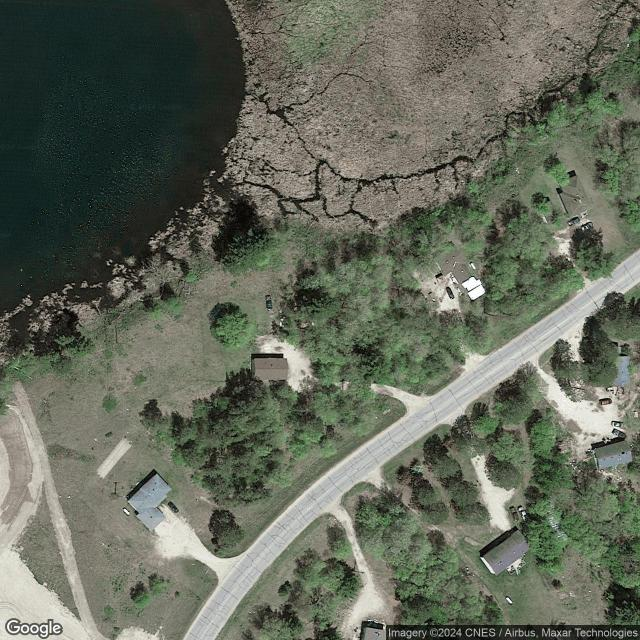Propane: (121, 507, 132, 517), (504, 595, 514, 606), (469, 260, 476, 271)
